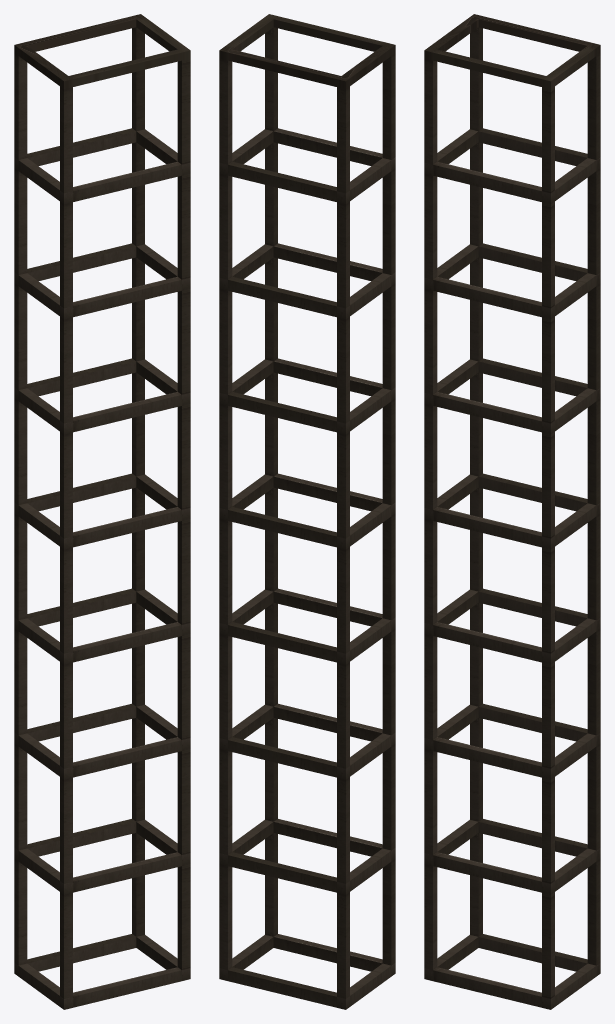
File: Tower_Elevator_F2.glb
3 renders of one model, left to right at view 1: azimuth 30°, elevation 25°; view 2: azimuth 150°, elevation 25°; view 3: azimuth 330°, elevation 25°, orthographic.
Visible parts, largest first — view 1: Tower_Elevator_F2; view 2: Tower_Elevator_F2; view 3: Tower_Elevator_F2.
Boxes of the visible parts, left/top/right/bottom form: Tower_Elevator_F2: left=14, top=14, right=190, bottom=1009; Tower_Elevator_F2: left=219, top=14, right=395, bottom=1009; Tower_Elevator_F2: left=424, top=14, right=600, bottom=1009.
Bounding box in the file's own units: 3.3 × 23.14 × 2.25.
1 material, 1 textured.
